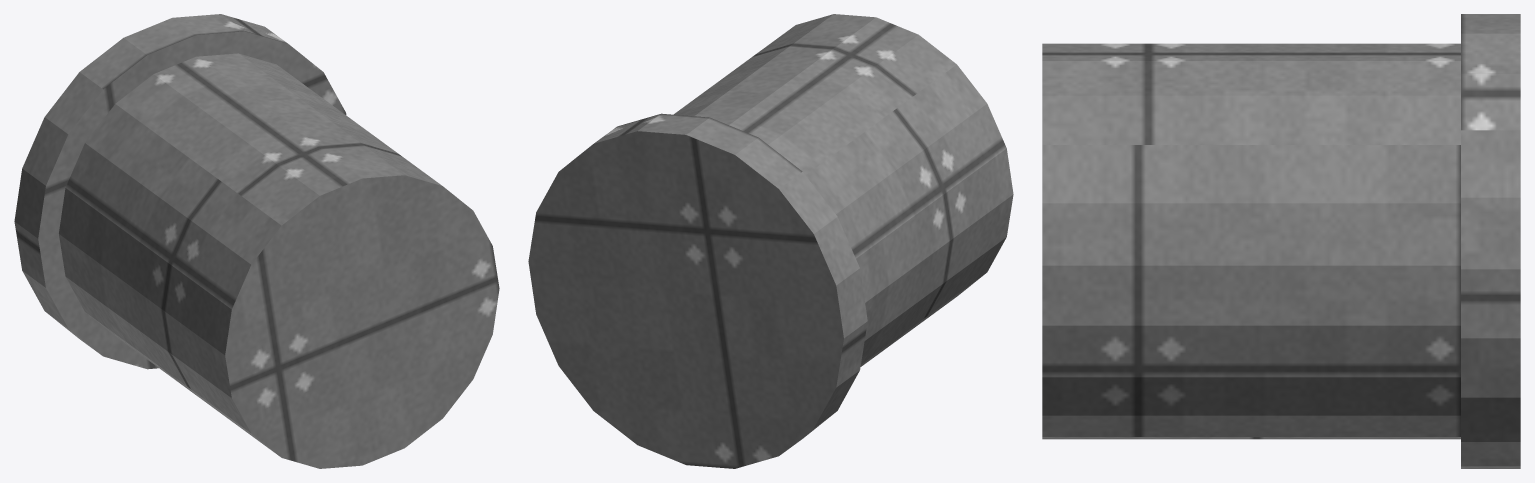
The model's file is attach_3.glb.
3 views of the same model, side by side, from view 1: azimuth 30°, elevation 25°; view 2: azimuth 150°, elevation 25°; view 3: azimuth 270°, elevation 25° (orthographic). The views are drawn at different scales.
Parts seen in each view (by area): view 1: attach_3; view 2: attach_3; view 3: attach_3.
Boxes of the visible parts, x1,y1,x2,y2 form: attach_3: (14,14,499,468); attach_3: (528,14,1013,468); attach_3: (1042,14,1520,468).
Bounding box in the file's own units: 0.46 × 0.46 × 0.48.
Materials: 1 (1 with a texture image).
